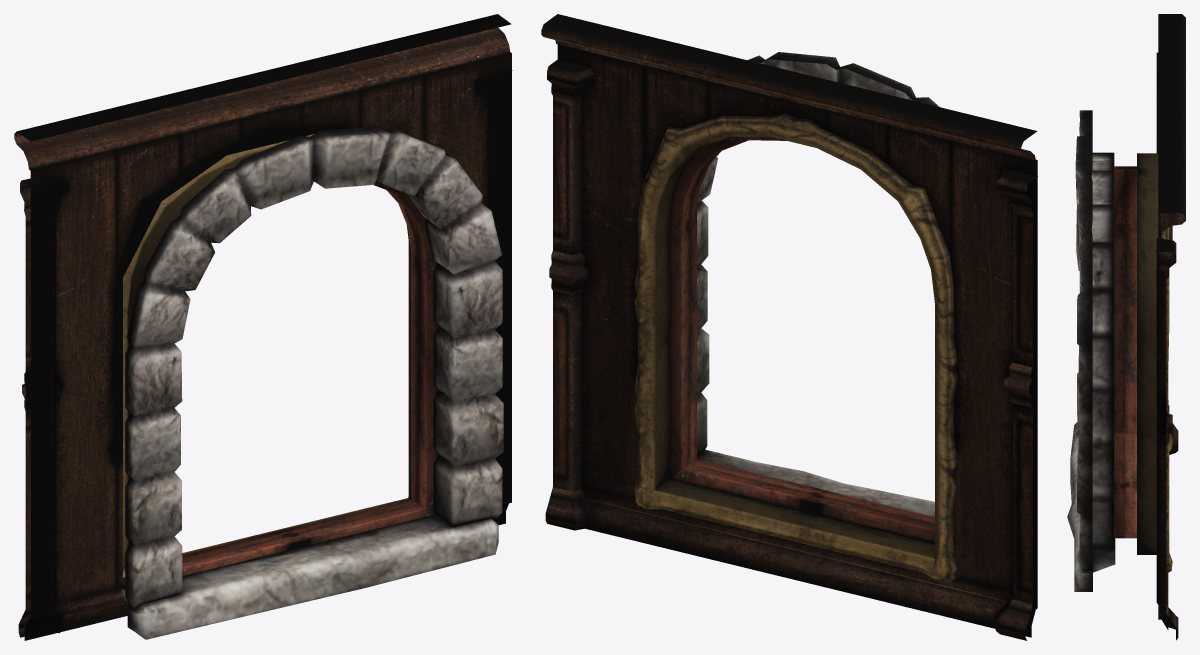
The model's file is window_noglass.dae.
3 views of the same model, side by side, from view 1: azimuth 30°, elevation 25°; view 2: azimuth 150°, elevation 25°; view 3: azimuth 270°, elevation 25° (orthographic). The views are drawn at different scales.
Parts seen in each view (by area): view 1: window_large_02_blue11, polySurface639, polySurface640, window_frame_no_boards; view 2: window_large_02_blue11, window_frame_no_boards, polySurface639, polySurface640; view 3: window_frame_no_boards, polySurface639, window_large_02_blue11, polySurface640.
Part boxes in pixels (<box>): window_large_02_blue11: <box>14,14,512,640</box>; polySurface639: <box>125,126,503,609</box>; polySurface640: <box>121,514,498,639</box>; window_frame_no_boards: <box>123,134,437,577</box>; window_large_02_blue11: <box>541,14,1037,640</box>; window_frame_no_boards: <box>634,113,959,581</box>; polySurface639: <box>697,52,939,455</box>; polySurface640: <box>697,449,934,516</box>; window_frame_no_boards: <box>1114,153,1172,573</box>; polySurface639: <box>1075,110,1114,570</box>; window_large_02_blue11: <box>1156,14,1185,640</box>; polySurface640: <box>1067,422,1115,591</box>.
Size of the model in its own units: 4 by 4 by 1.01.
